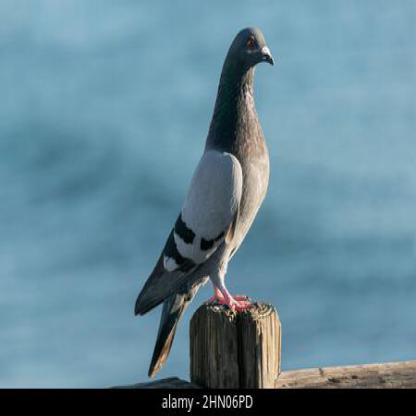Flying Rat: (132, 22, 288, 375)
